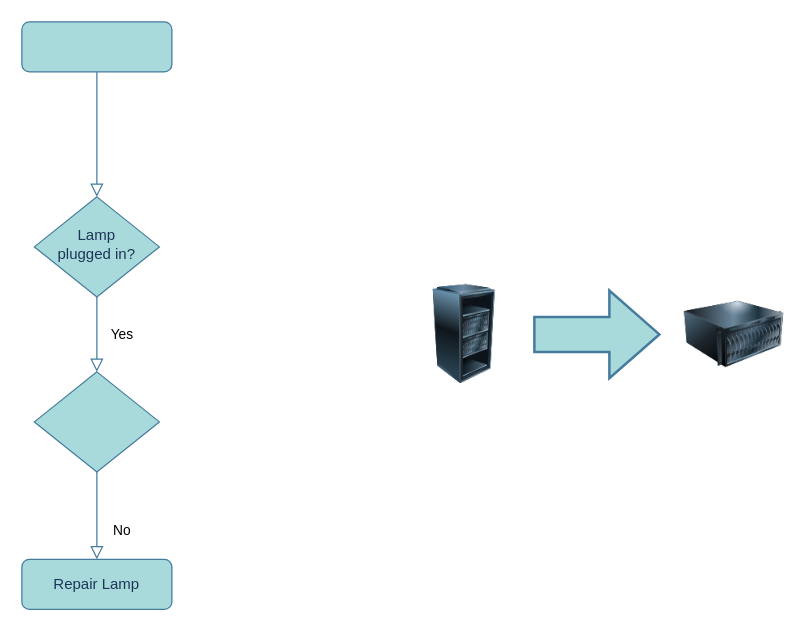
Some shapes in this 806 by 631 pixel diagram are drawn without their labels. Here are the shapes that lost their labels. From the top down, the box of each, then its label:
(21, 21, 172, 72): Lamp doesn't work
(33, 371, 159, 472): Bulb burned out?
